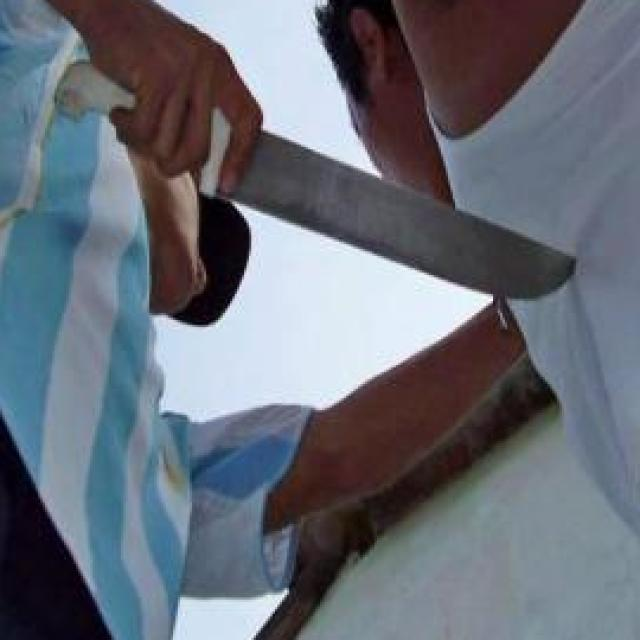knife: (43, 40, 588, 305)
